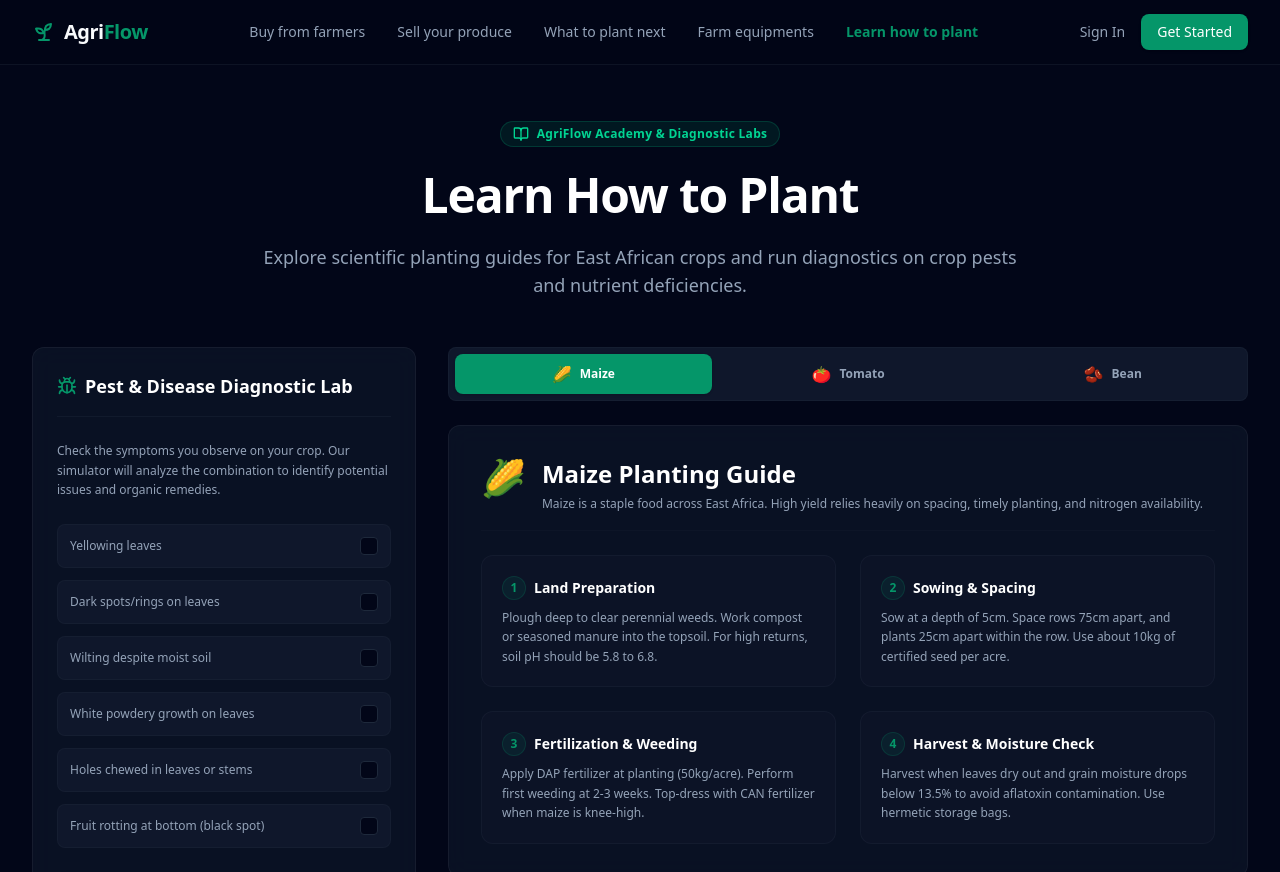
it: Learn Page & Diagnostic Lab › switches active crop guide tab
The width and height of the screenshot is (1280, 872).
Click the button "🍅 Tomato" at (848, 374), box [720, 354, 976, 394]
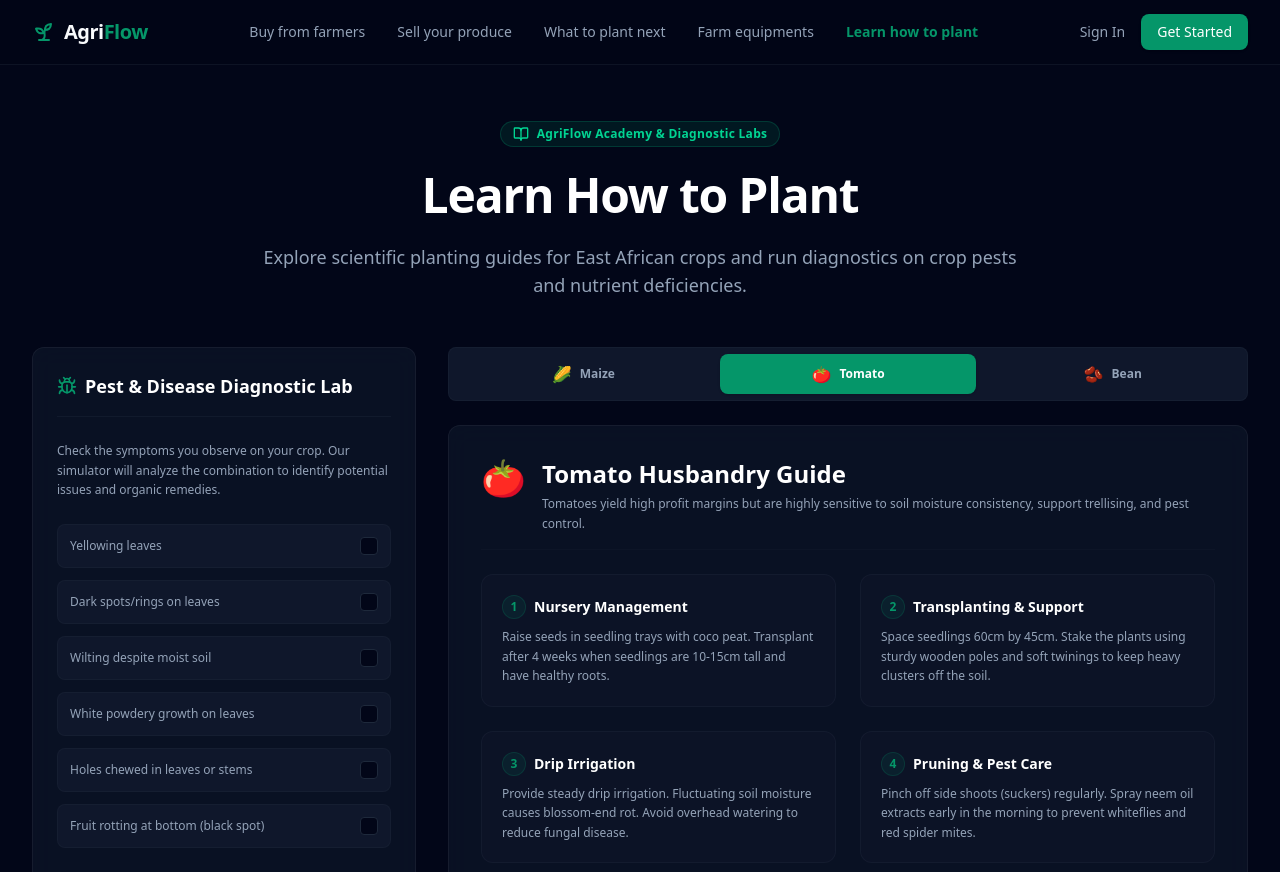
Check: the heading "Nursery Management" is shown, box [534, 597, 688, 617]
Check: the heading "Transplanting & Support" is shown, box [913, 597, 1084, 617]
